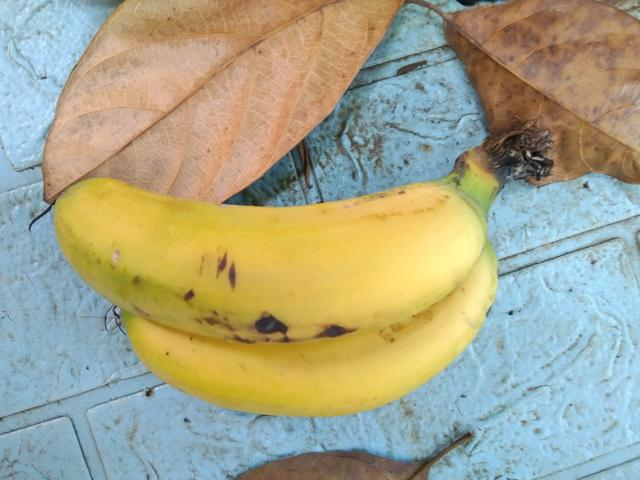ripe: (24, 150, 495, 352)
